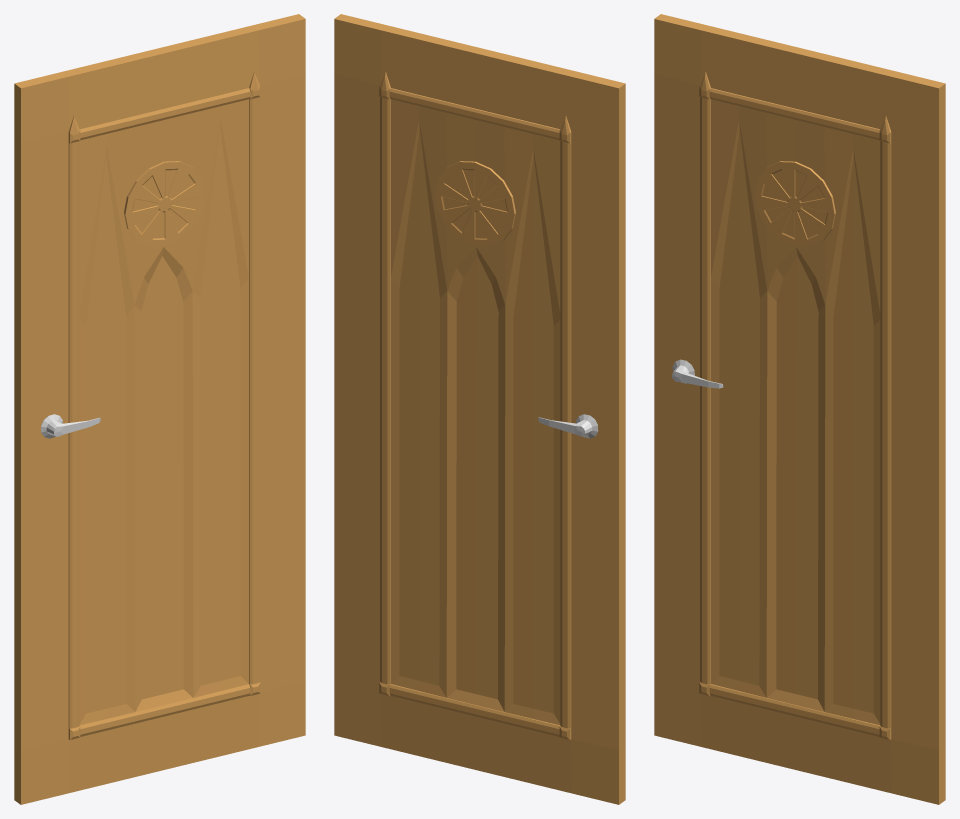
Rendered from door2.fbx.
The picture shows the model from 3 angles, left to right: view 1: azimuth 30°, elevation 25°; view 2: azimuth 150°, elevation 25°; view 3: azimuth 330°, elevation 25°; orthographic projection.
Visible parts, largest first — view 1: Door.013, Handle_Back.006; view 2: Door.013, Handle_Back.006; view 3: Door.013, Handle_Back.006.
Boxes of the visible parts, <box> form: Door.013: <box>14,14,305,804</box>; Handle_Back.006: <box>41,414,100,438</box>; Door.013: <box>334,14,625,804</box>; Handle_Back.006: <box>538,414,598,438</box>; Door.013: <box>654,14,945,804</box>; Handle_Back.006: <box>672,359,723,388</box>.
Bounding box in the file's own units: 83.6 × 201 × 11.67.
